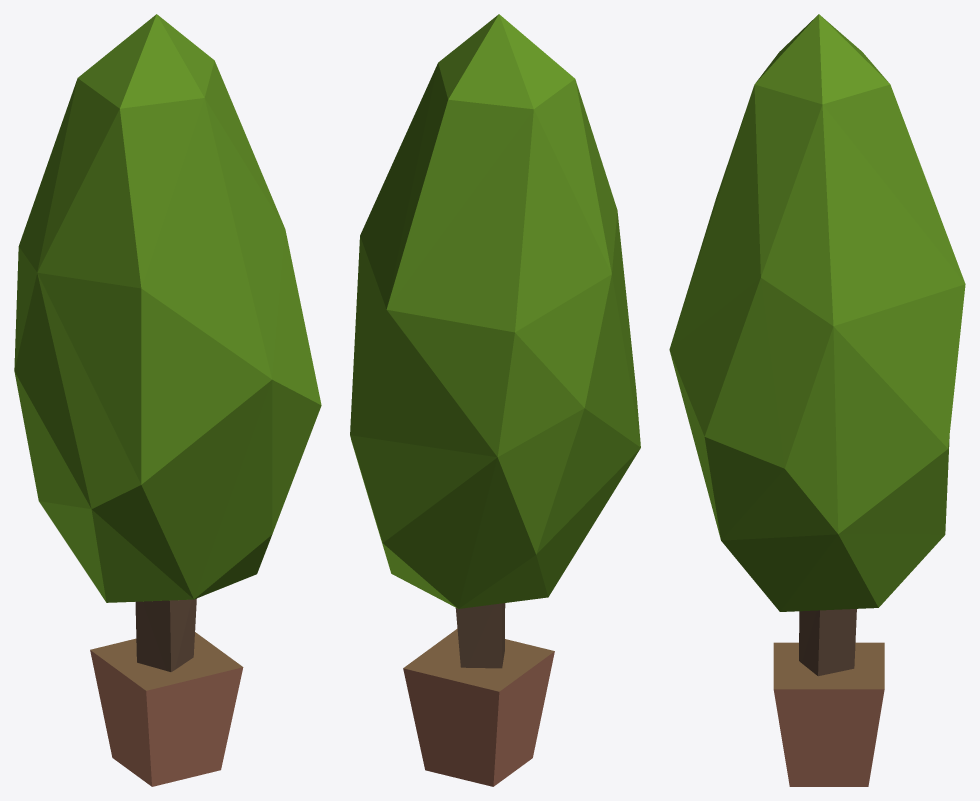
File: tree_small.fbx
3 renders of one model, left to right at view 1: azimuth 30°, elevation 25°; view 2: azimuth 150°, elevation 25°; view 3: azimuth 270°, elevation 25°, orthographic.
Parts seen in each view (by area): view 1: tree_small; view 2: tree_small; view 3: tree_small.
Boxes of the visible parts, x1,y1,x2,y2 form: tree_small: [14, 14, 321, 786]; tree_small: [350, 14, 640, 786]; tree_small: [669, 14, 965, 786].
Bounding box in the file's own units: 157 × 440 × 158.
